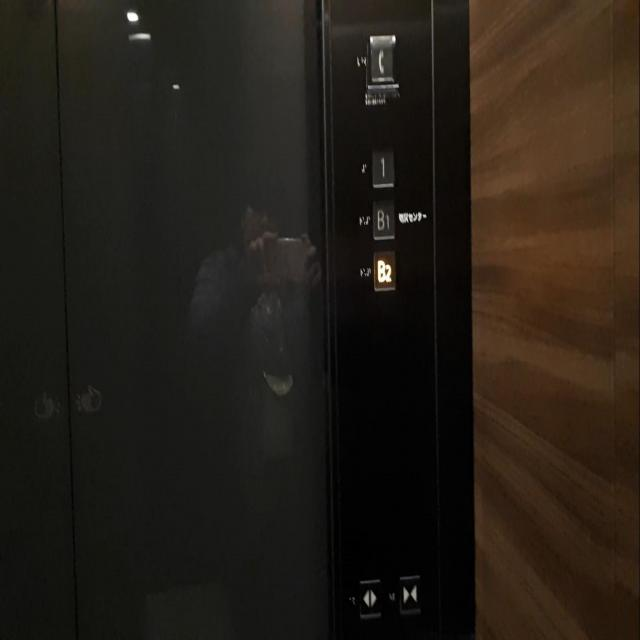1: (370, 148, 395, 190)
B1: (371, 199, 396, 240)
B2: (372, 250, 396, 292)
call: (366, 34, 400, 92)
close: (398, 574, 421, 615)
open: (358, 578, 382, 620)
